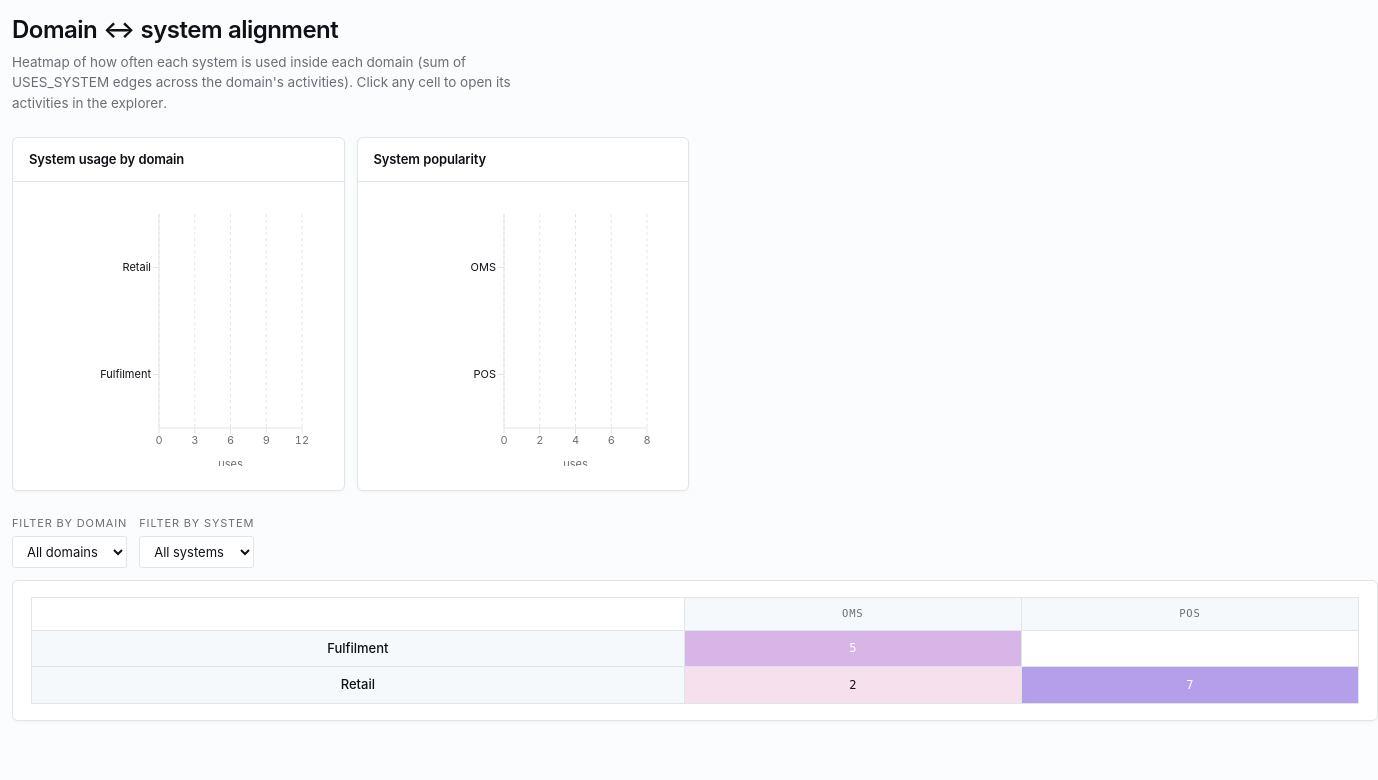
Test case: cto-analytics T-08 — matrix pre-filters (FR-02) › domain filter cuts the matrix to a single row before render
Check: the number of links with test id "matrix-cell" is 4, box top-left (849, 641), bottom-right (856, 655); top-left (1022, 640), bottom-right (1358, 656); top-left (849, 678), bottom-right (856, 692); top-left (1186, 678), bottom-right (1194, 692)
Select "Retail" in the dropdown with test id "domain-filter" at (70, 552), box top-left (12, 536), bottom-right (127, 568)
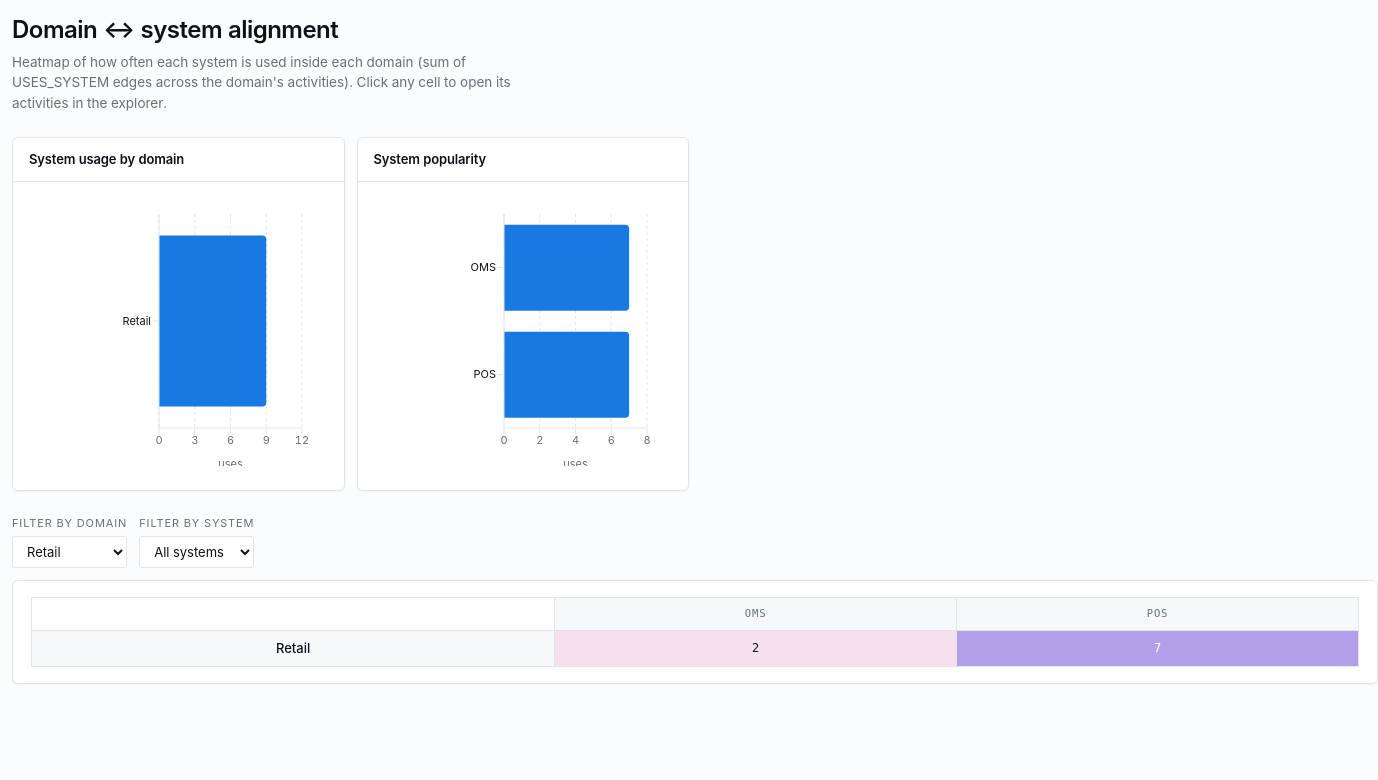
Check: the number of links with test id "matrix-cell" is 2, box top-left (752, 641), bottom-right (759, 655); top-left (1154, 641), bottom-right (1161, 655)
